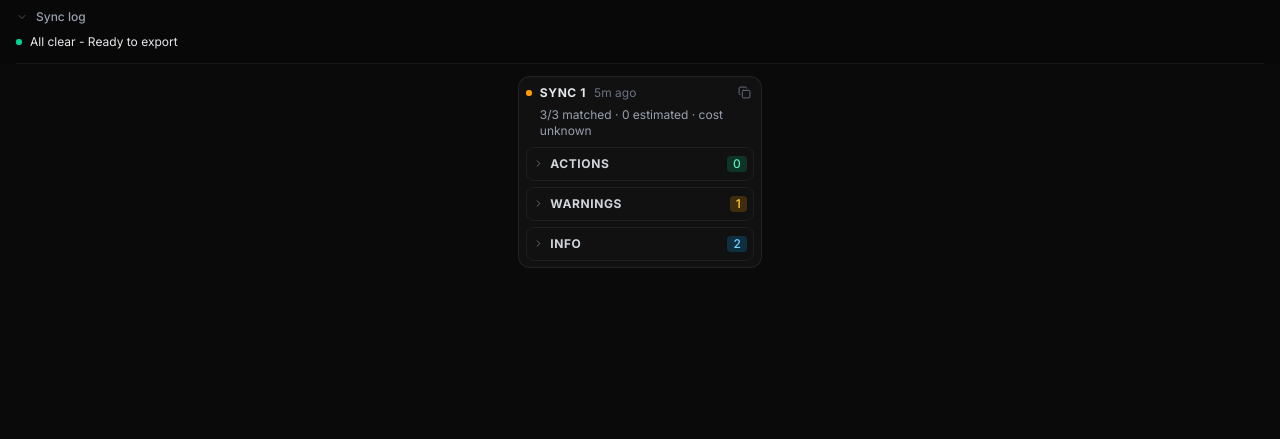
Test: sub-groups › the detail card closes with Close
The width and height of the screenshot is (1280, 439).
What coordinates should you click on to do the following:
click the button "Warnings"
I would click on:
 (616, 204)
Its box is [533, 188, 699, 220].
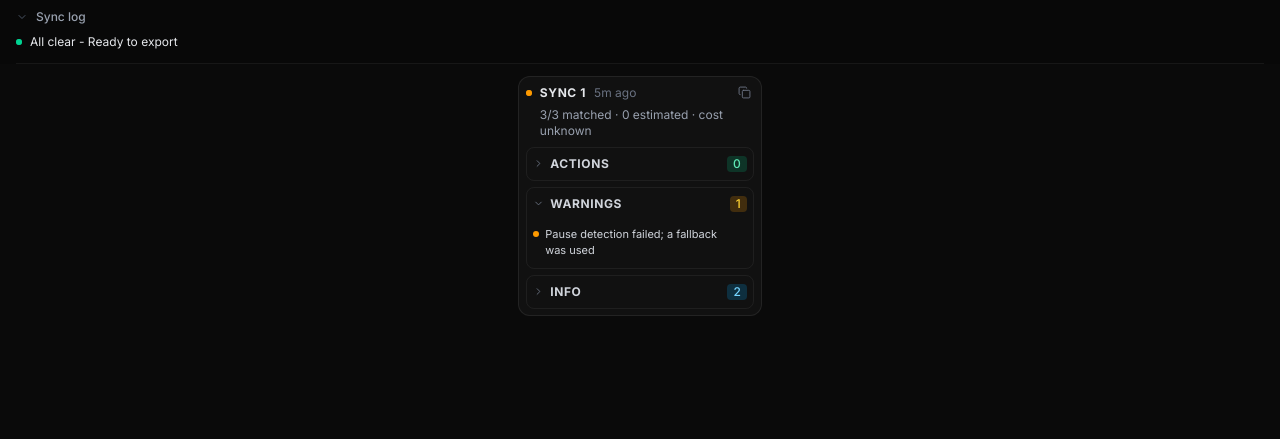
Expected: the button with test id "sync-item" is shown
What coordinates should you click on to do the following:
click the button with test id "sync-item"
I would click on:
 (635, 242)
Its box is [545, 226, 725, 258].
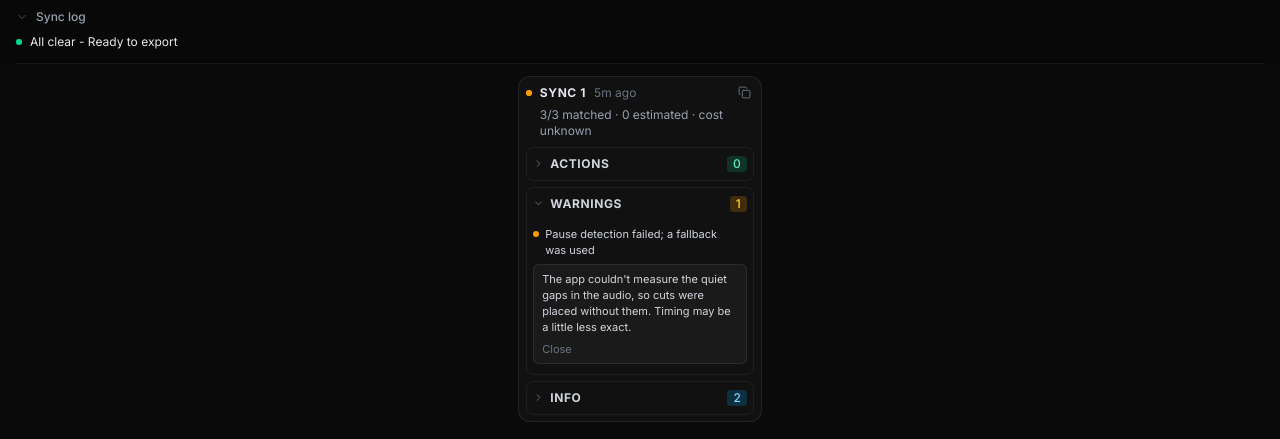
Expected: the element with test id "sync-item-detail" is shown, [533, 264, 747, 364]
Expected: the button "Close" is shown
What coordinates should you click on to do the following:
click the button "Close"
I would click on:
 (557, 348)
Its box is [542, 340, 572, 356].
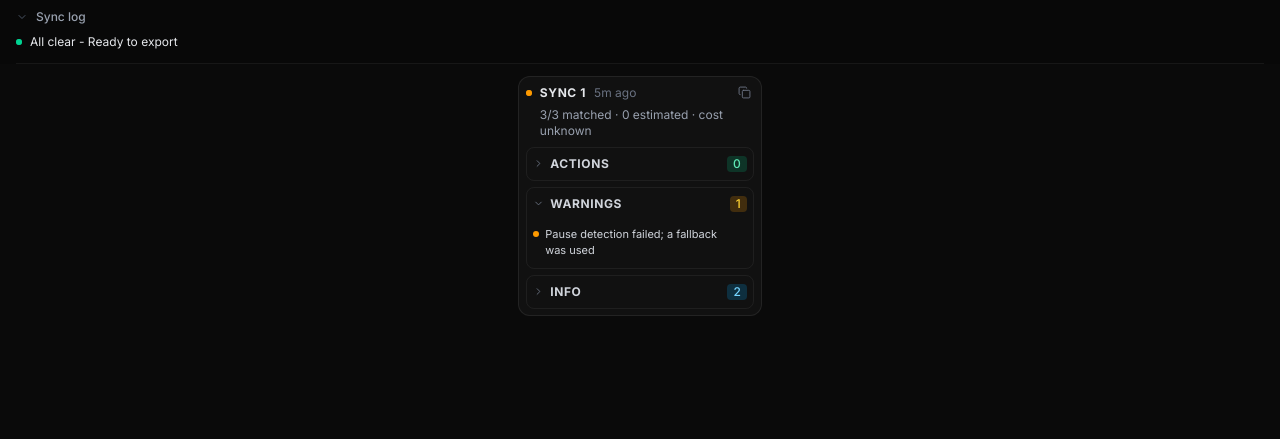
Expected: the element with test id "sync-item-detail" is gone
